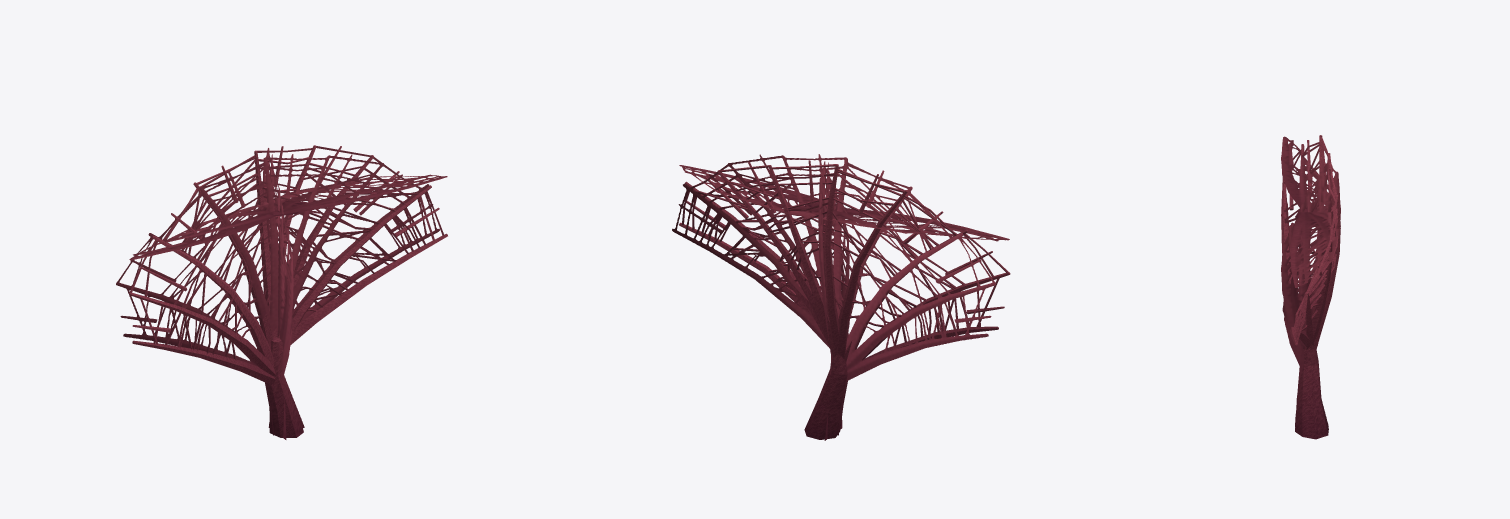
Rendered from Coral-03-Leque-de-Vinho.glb.
3 renders of one model, left to right at view 1: azimuth 30°, elevation 25°; view 2: azimuth 150°, elevation 25°; view 3: azimuth 270°, elevation 25°, orthographic. The views are drawn at different scales.
Parts seen in each view (by area): view 1: Coral-03-Leque-de-Vinho impostor, Colonia; view 2: Coral-03-Leque-de-Vinho impostor, Colonia; view 3: Coral-03-Leque-de-Vinho impostor, Colonia.
Boxes of the visible parts, left/top/right/bottom form: Coral-03-Leque-de-Vinho impostor: left=116, top=148, right=447, bottom=439; Colonia: left=129, top=145, right=447, bottom=437; Coral-03-Leque-de-Vinho impostor: left=672, top=154, right=1009, bottom=440; Colonia: left=679, top=160, right=1010, bottom=439; Coral-03-Leque-de-Vinho impostor: left=1281, top=136, right=1340, bottom=426; Colonia: left=1281, top=135, right=1340, bottom=439.
Size of what is drawn, in the model's own units: 1.84 by 1.84 by 1.84.
2 materials, 2 textured.
